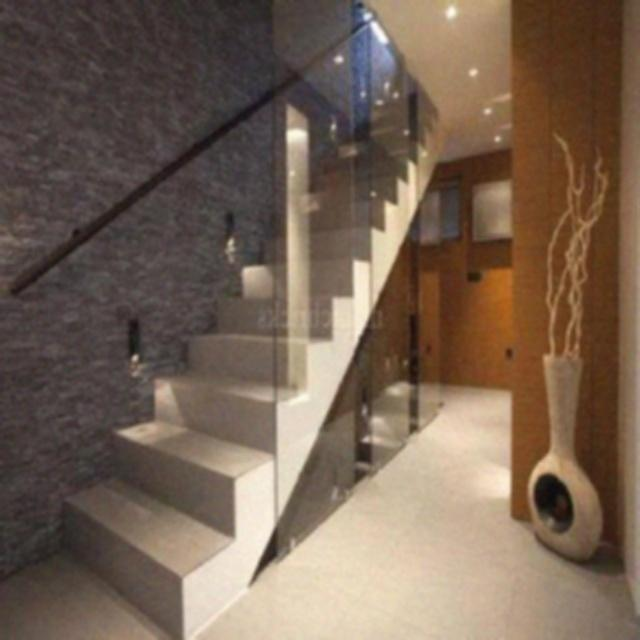stair: (38, 35, 460, 638)
